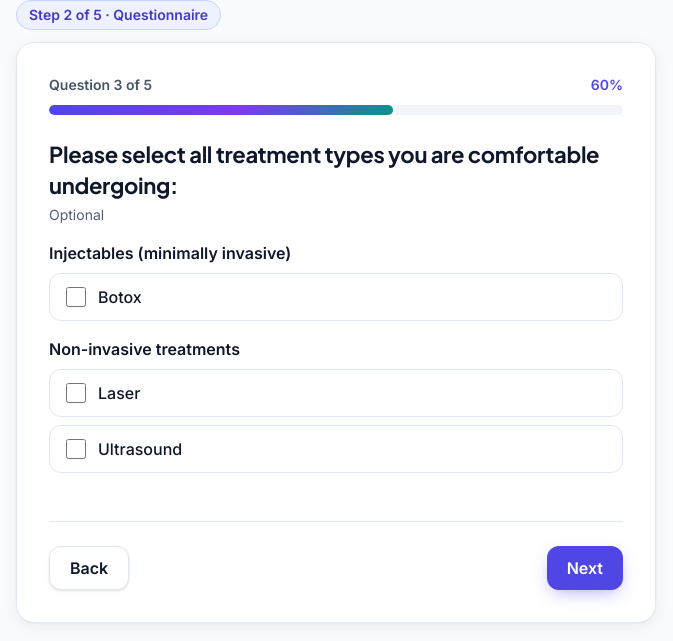
Test: Resume (AC4.2.6) › resumes at the first unanswered question with earlier answers kept
The image size is (673, 641).
Check: the text with test id "wizard-position" reads "Question 3 of 5", box x1=49 y1=75 x2=152 y2=95
Click the button with test id "wizard-back-button".
click(89, 568)  # box x1=49 y1=546 x2=129 y2=590
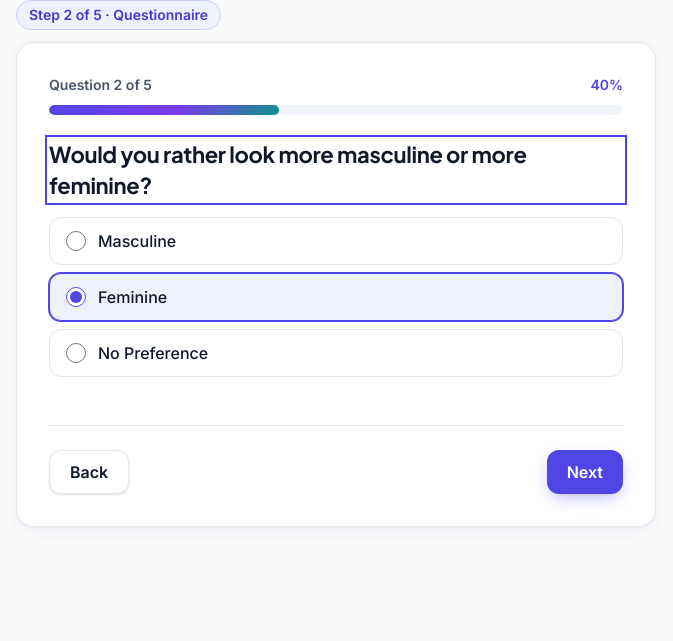
Check: the radio button with test id "question-option-feminine" is checked, box x1=66 y1=287 x2=86 y2=307
